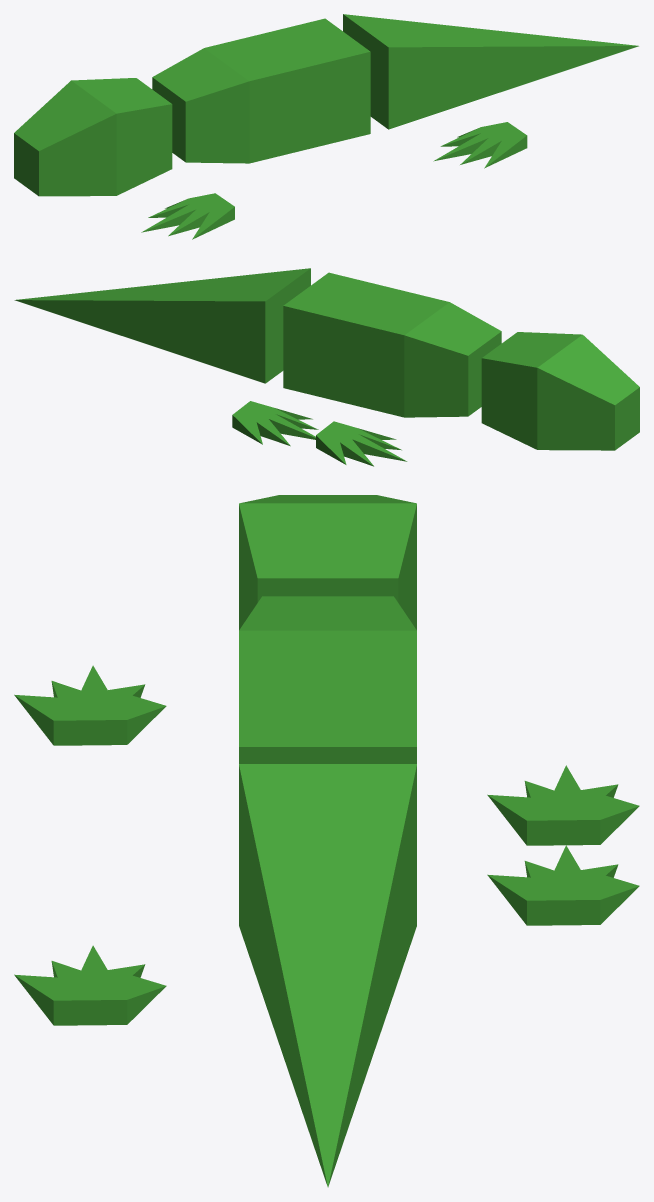
The model's file is lizard.gltf.
3 renders of one model, top to bottom at view 1: azimuth 30°, elevation 25°; view 2: azimuth 150°, elevation 25°; view 3: azimuth 270°, elevation 25°, orthographic. The views are drawn at different scales.
Visible parts, largest first — view 1: Body, Tail, Head, Foot-0, Foot-1; view 2: Body, Tail, Head, Foot-2, Foot-3; view 3: Tail, Body, Head, Foot-2, Foot-3, Foot-1, Foot-0.
Part boxes in pixels (x1,y1,x2,y2): Body: [152, 18, 370, 163]; Tail: [343, 14, 638, 129]; Head: [14, 78, 172, 196]; Foot-0: [433, 122, 527, 168]; Foot-1: [141, 193, 234, 239]; Body: [283, 272, 501, 417]; Tail: [14, 268, 310, 383]; Head: [481, 332, 639, 450]; Foot-2: [316, 421, 407, 466]; Foot-3: [232, 401, 318, 446]; Tail: [239, 764, 416, 1187]; Body: [239, 596, 416, 763]; Head: [239, 495, 416, 629]; Foot-2: [487, 765, 639, 845]; Foot-3: [487, 845, 639, 925]; Foot-1: [14, 665, 166, 745]; Foot-0: [14, 945, 166, 1025].
Size of the model in its own units: 0.294 by 0.0406 by 0.1323.
